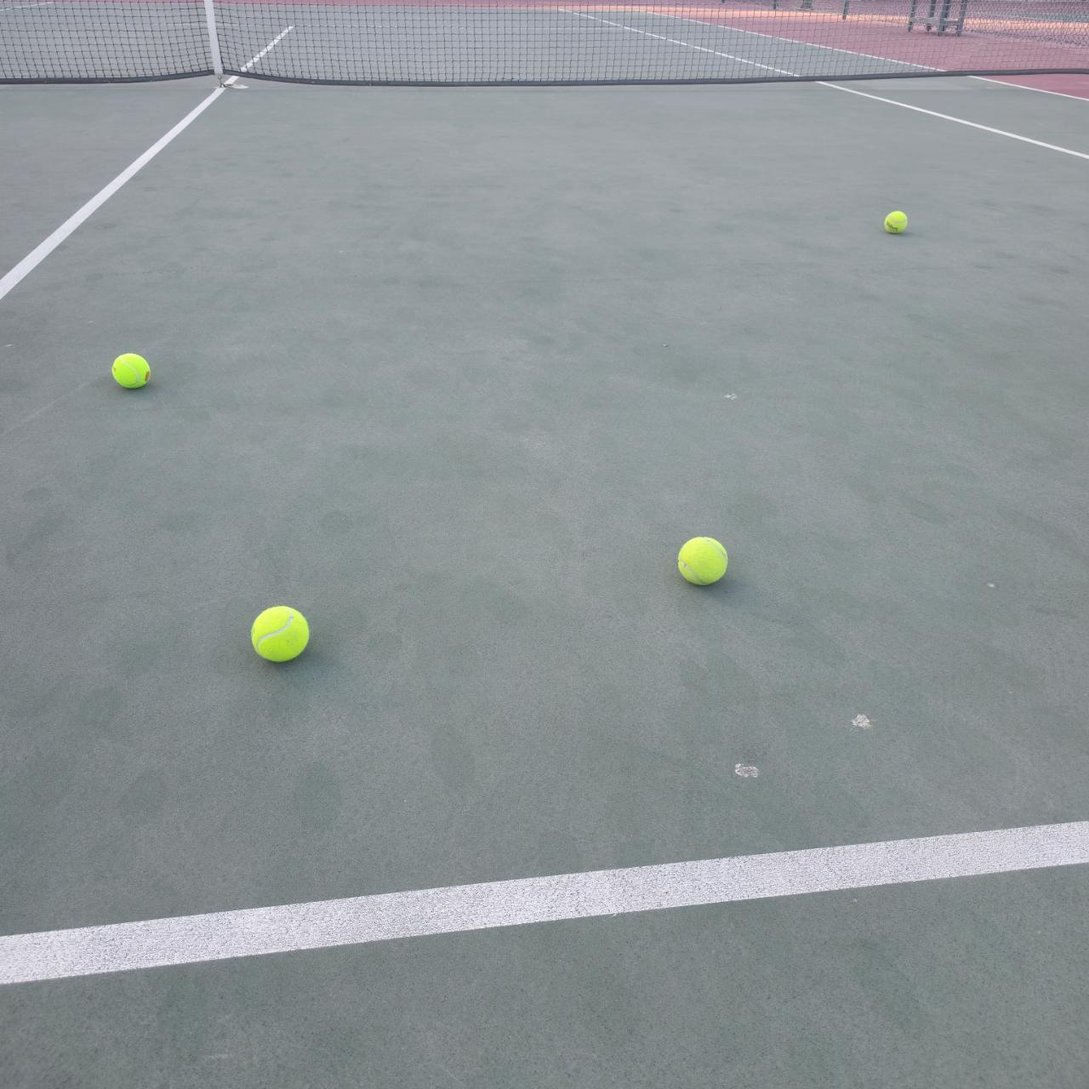tennis-ball: (248, 602, 311, 663), (675, 533, 729, 586), (109, 350, 151, 390), (881, 208, 909, 234)
